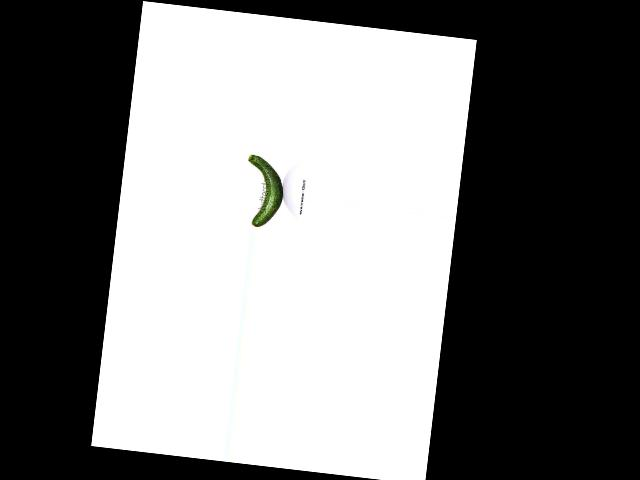cucumber: (240, 154, 287, 229)
